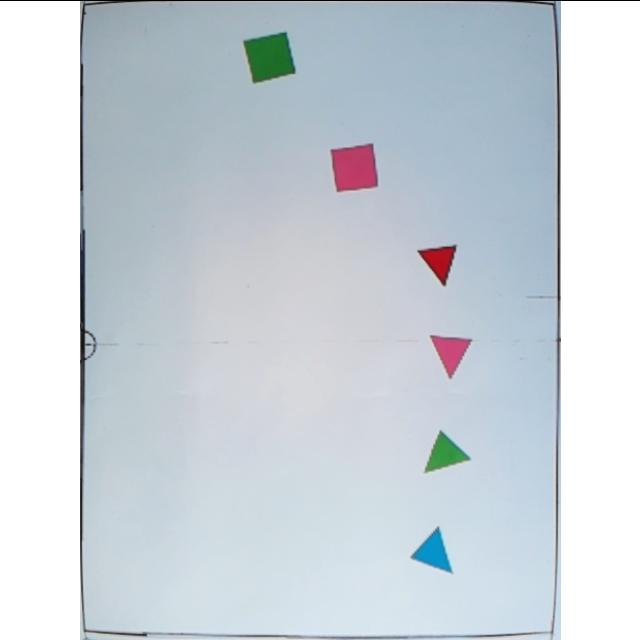blueTriangle: (406, 524, 456, 576)
greenSquare: (242, 31, 296, 83)
greenTriangle: (418, 429, 469, 475)
pinkSquare: (329, 142, 377, 192)
pinkTriangle: (428, 334, 472, 378)
redTriangle: (416, 243, 460, 289)
